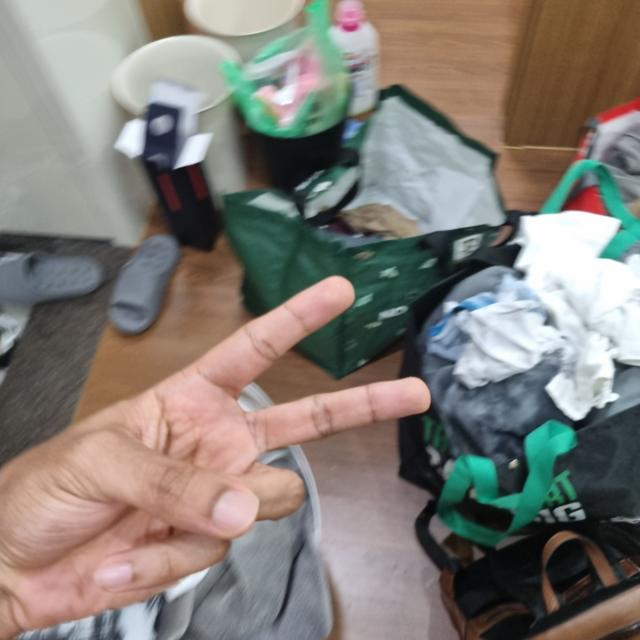Scissors: (0, 280, 427, 635)
